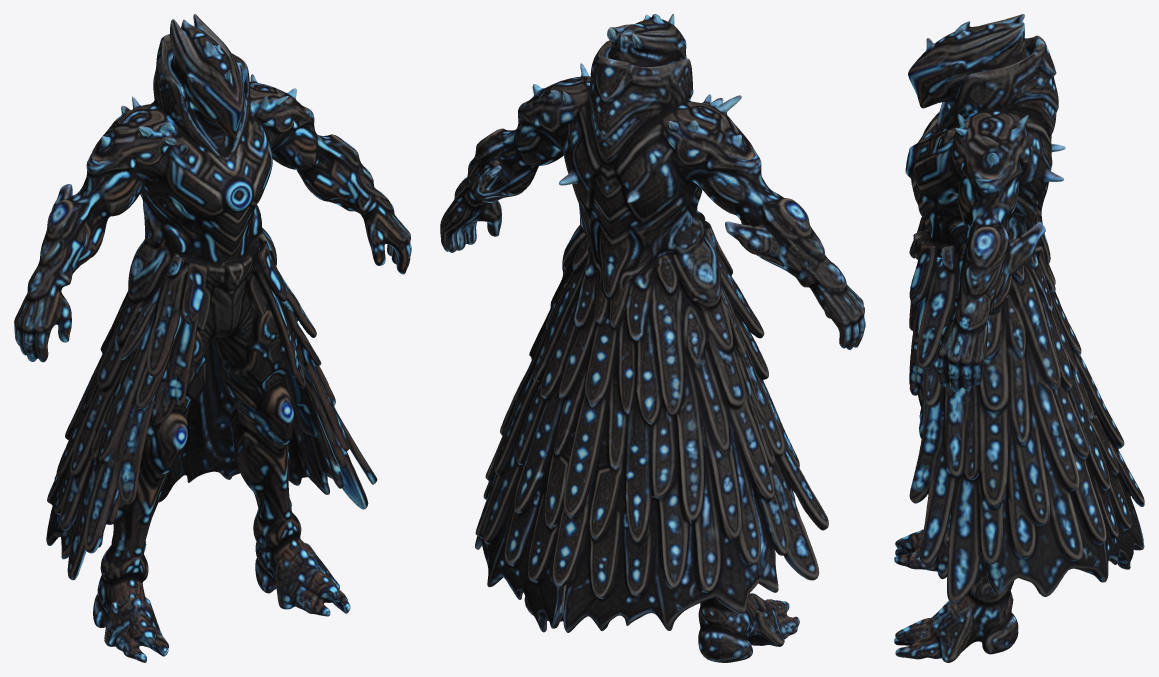
The model's file is drakos_n1.glb.
3 renders of one model, left to right at view 1: azimuth 30°, elevation 25°; view 2: azimuth 150°, elevation 25°; view 3: azimuth 270°, elevation 25°, orthographic. The views are drawn at different scales.
Size of the model in its own units: 1.32 by 1.89 by 0.7276.
1 material, 1 textured.
